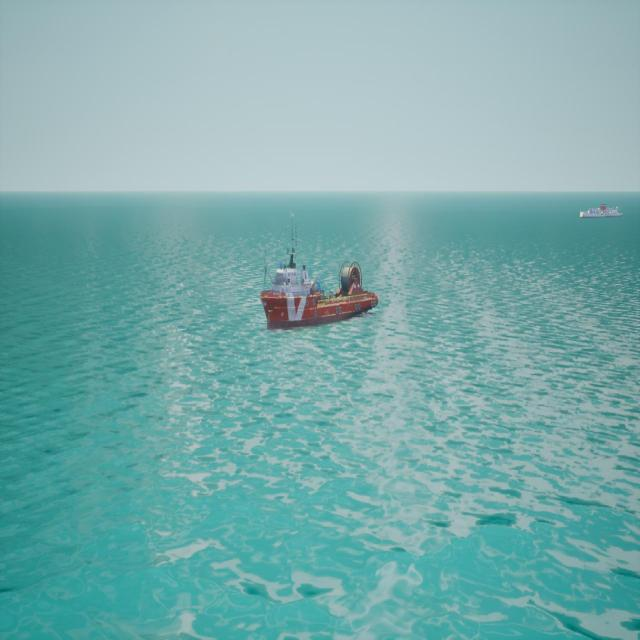tug boat: (259, 213, 379, 334)
